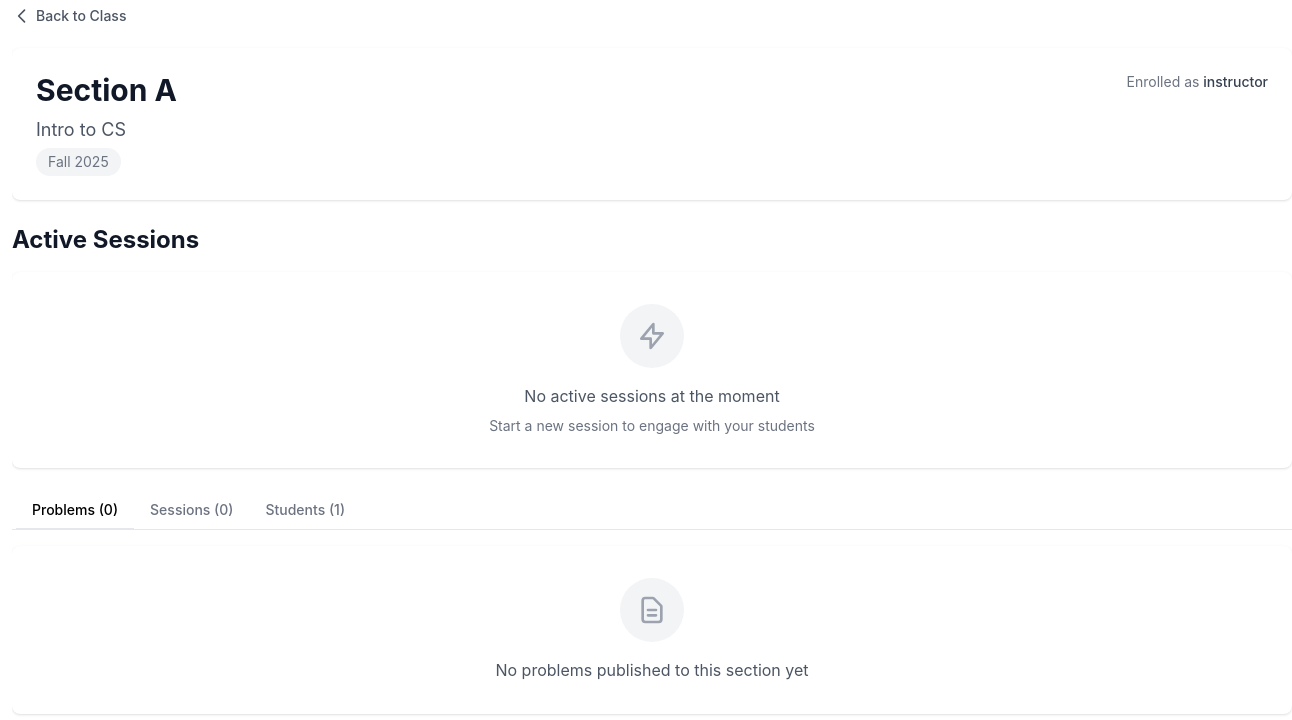
Test case: InstructorSectionView › students › uses email as fallback when display_name is empty
Click the tab "Students (1)" at (305, 511), box x1=250 y1=492 x2=361 y2=530
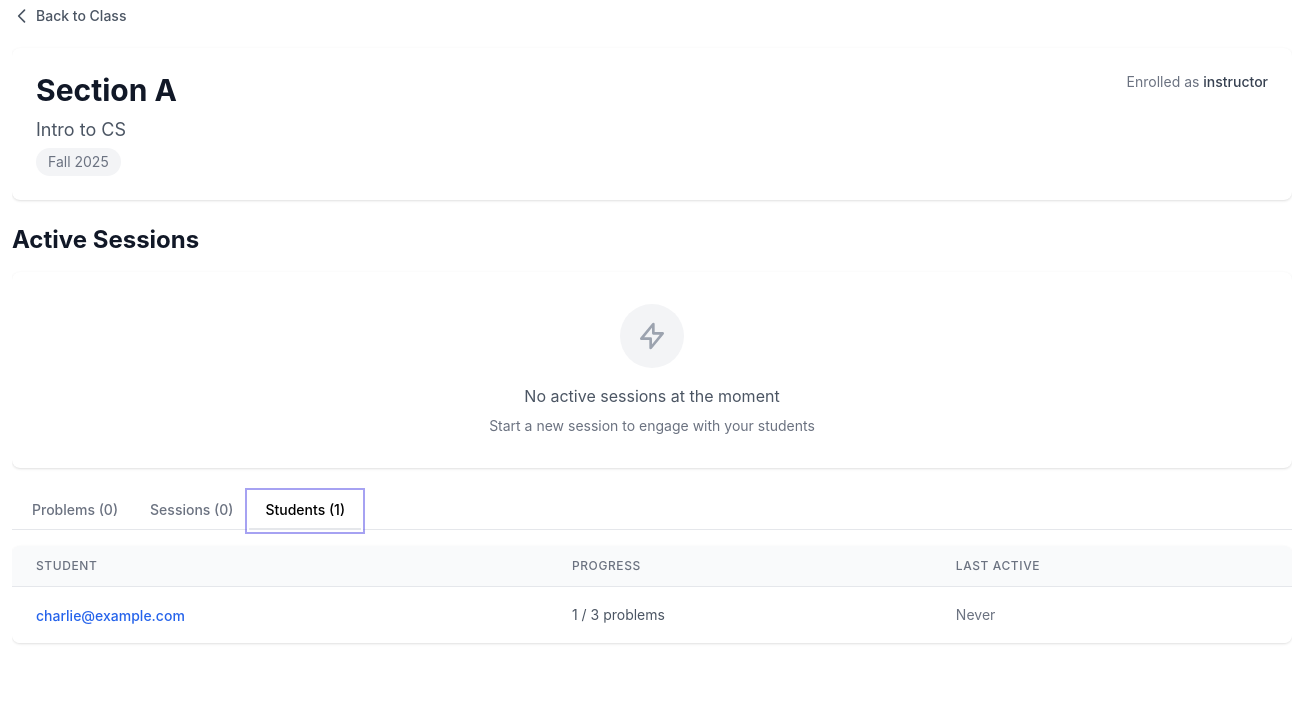
Now the link "charlie@example.com" is shown, box x1=36 y1=607 x2=185 y2=624
